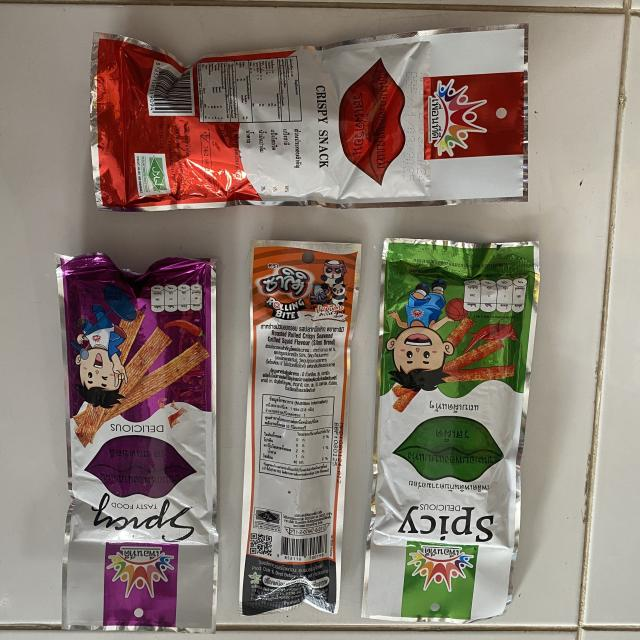plastik: (90, 25, 527, 211), (363, 238, 540, 623), (57, 255, 217, 632), (240, 241, 361, 615)
